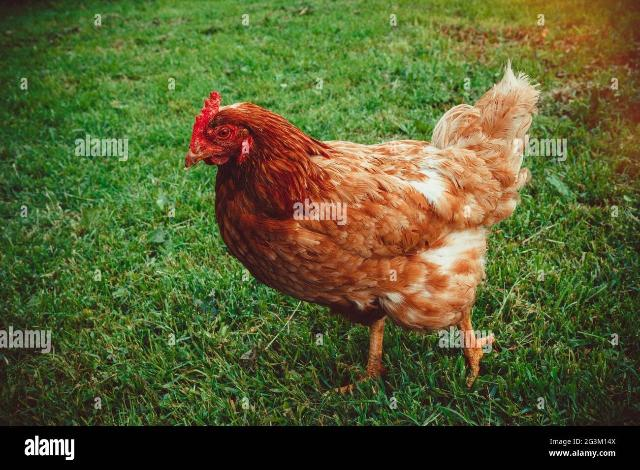Chicken: (185, 61, 539, 390)
